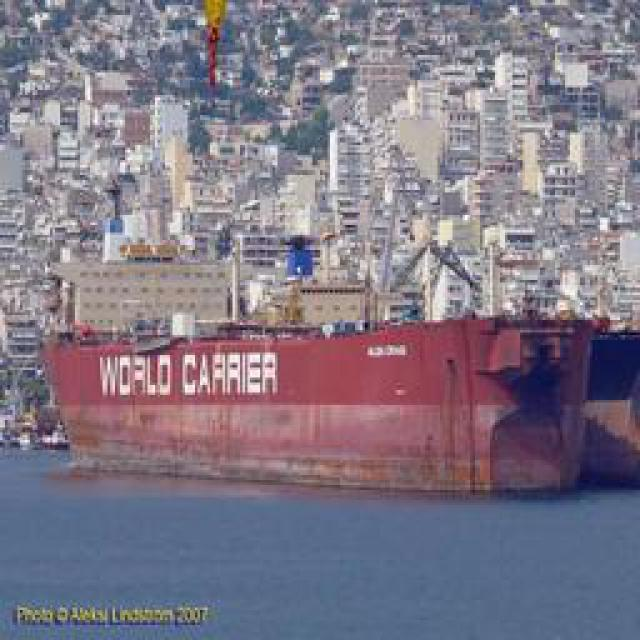Ship: (36, 300, 624, 498)
